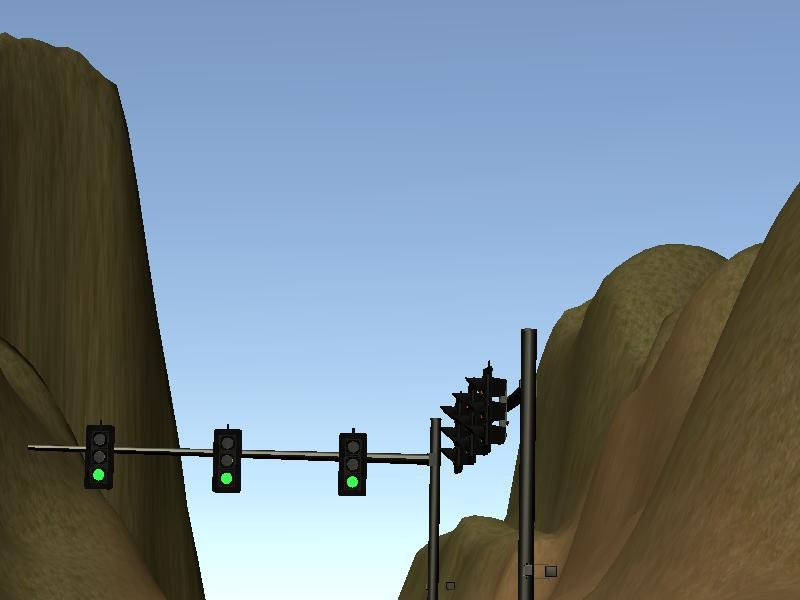green: (209, 425, 245, 496), (336, 429, 369, 496), (84, 425, 115, 491)
